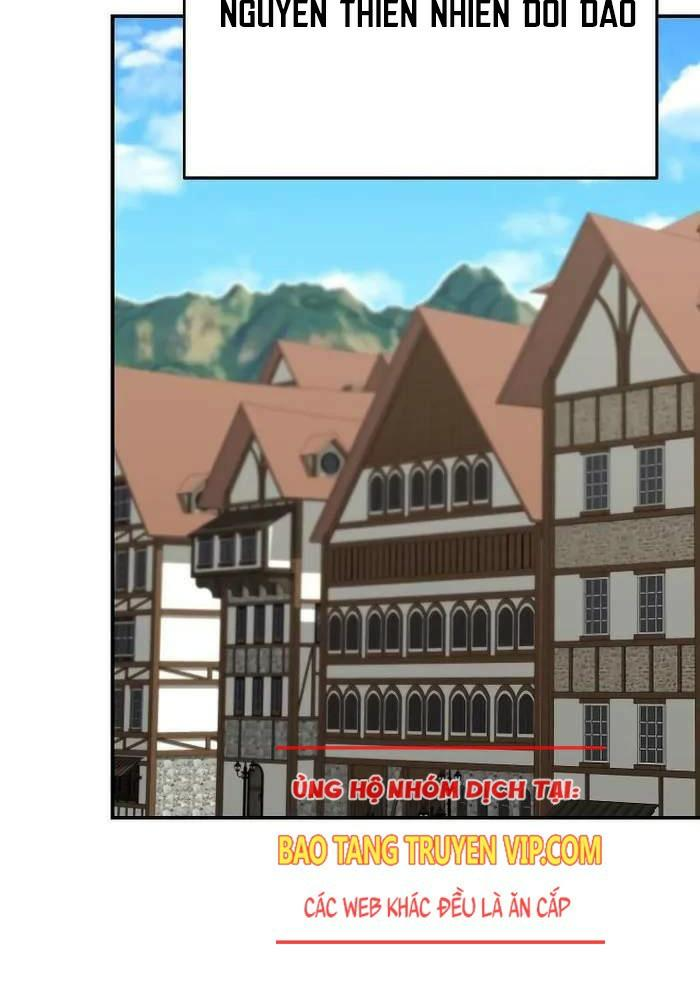quangcao: (273, 744, 607, 946)
